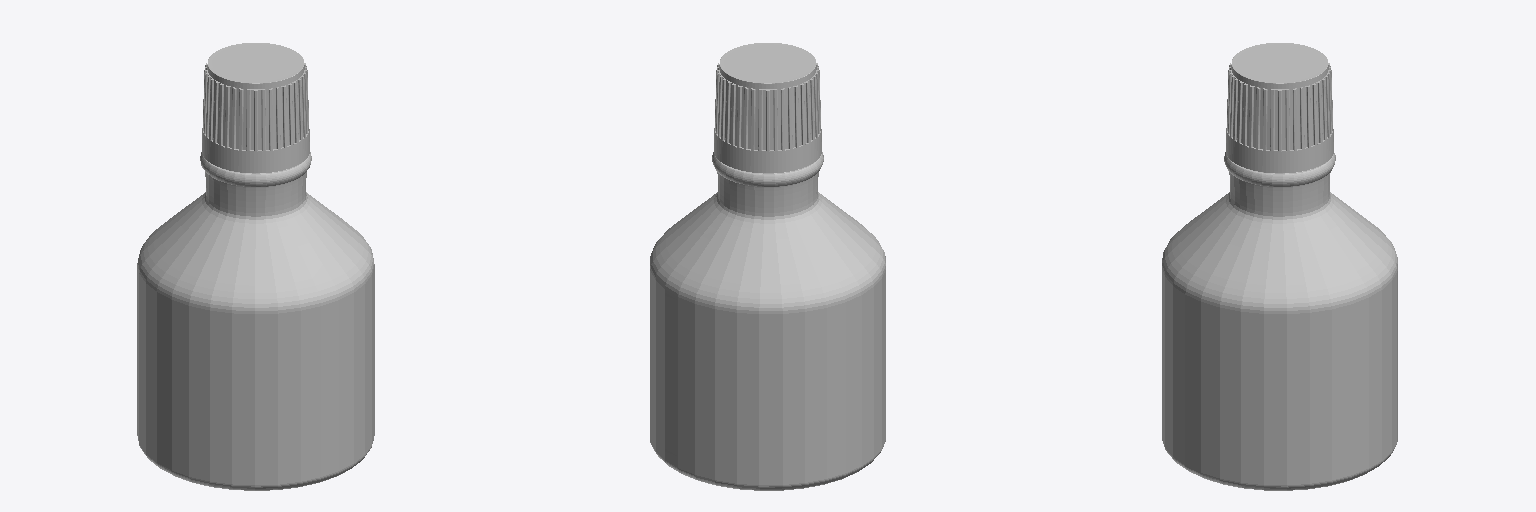
Rendered from MedicineBottle_obj.obj.
The picture shows the model from 3 angles: view 1: azimuth 30°, elevation 25°; view 2: azimuth 150°, elevation 25°; view 3: azimuth 270°, elevation 25°; orthographic projection.
Parts seen in each view (by area): view 1: MedicineBottle_MedicineBottle_mesh; view 2: MedicineBottle_MedicineBottle_mesh; view 3: MedicineBottle_MedicineBottle_mesh.
Boxes of the visible parts, <box> form: MedicineBottle_MedicineBottle_mesh: <box>137,43,374,490</box>; MedicineBottle_MedicineBottle_mesh: <box>650,43,885,490</box>; MedicineBottle_MedicineBottle_mesh: <box>1162,43,1397,490</box>.
Size of the model in its own units: 0.1214 by 0.2185 by 0.1214.